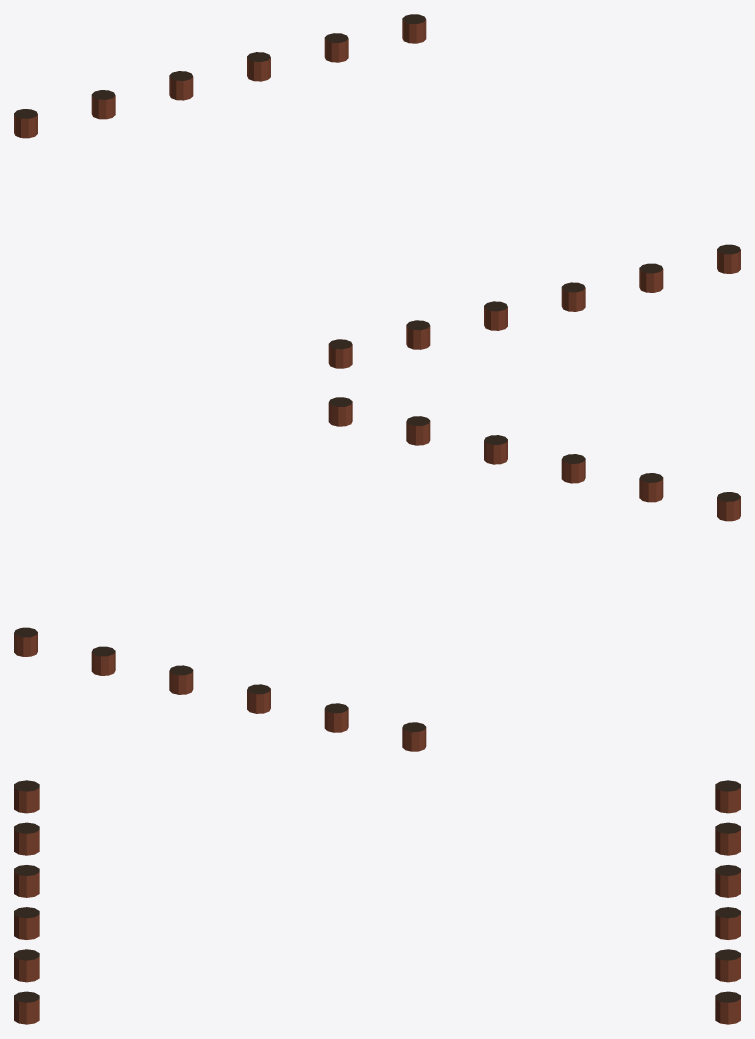
The model's file is 1187-Buildings-shell-pieces-roof-terrace-emitTerrace-360-triangles-10-96-x-0-50-x-15-.glb.
The picture shows the model from 3 angles, top to bottom: view 1: azimuth 30°, elevation 25°; view 2: azimuth 150°, elevation 25°; view 3: azimuth 270°, elevation 25°; orthographic projection. The views are drawn at different scales.
Visible parts, largest first — view 1: emitTerrace; view 2: emitTerrace; view 3: emitTerrace.
Part boxes in pixels (x1,y1,x2,y2): emitTerrace: [14, 14, 740, 368]; emitTerrace: [14, 397, 740, 751]; emitTerrace: [14, 780, 740, 1024].
Bounding box in the file's own units: 10.96 × 0.5 × 15.13.
